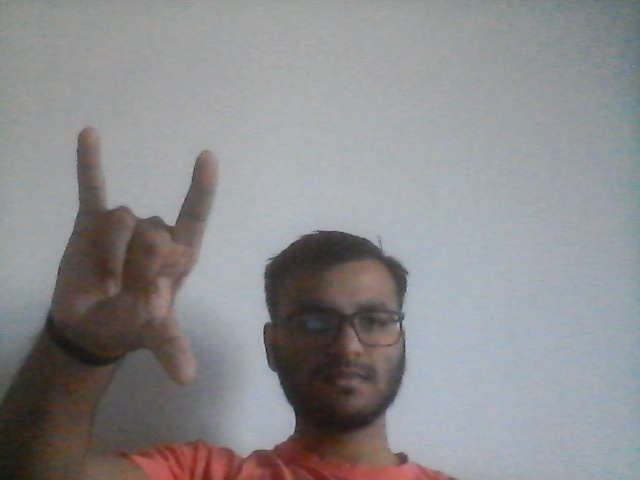I Love You: (45, 111, 223, 409)
